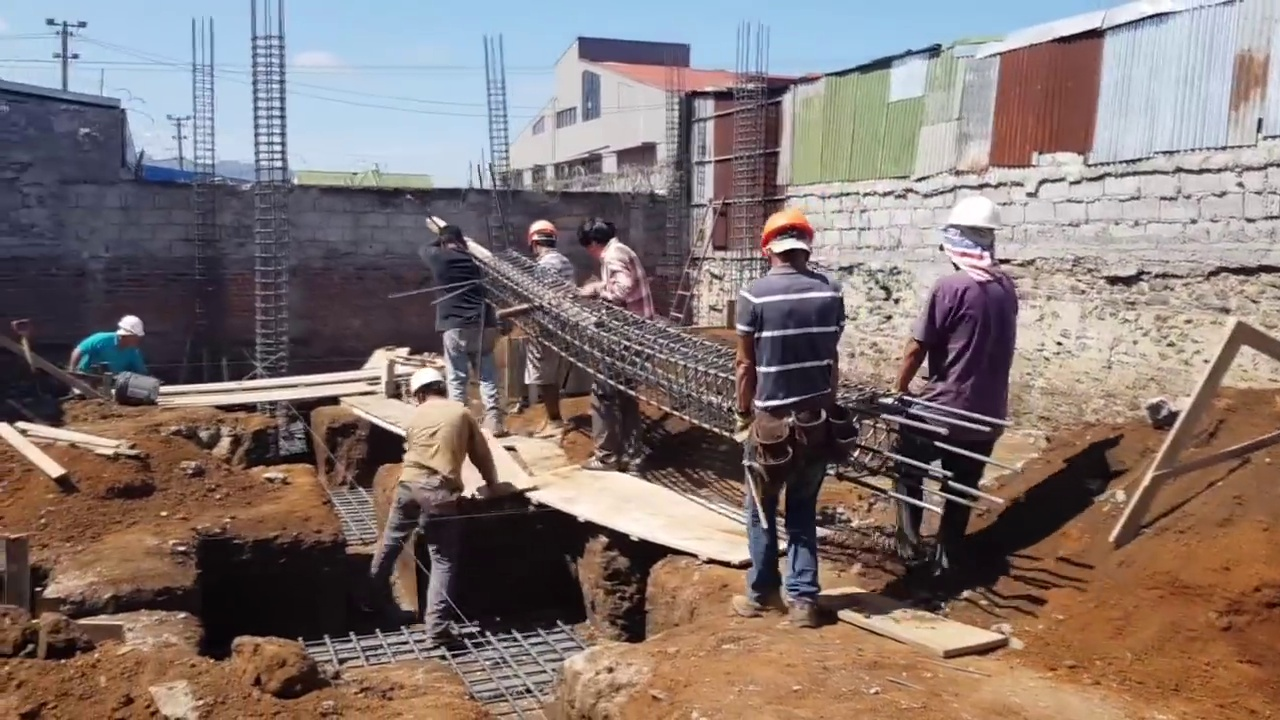helmet: (940, 196, 1005, 238), (762, 210, 821, 256), (408, 368, 445, 399), (530, 220, 558, 245), (117, 317, 144, 337)
helmet-off: (583, 215, 619, 262), (435, 225, 468, 255)
helmet-on: (940, 197, 1004, 276), (765, 208, 821, 278), (406, 370, 446, 410), (527, 219, 560, 258), (111, 317, 144, 349)
person: (881, 199, 1032, 600), (729, 208, 856, 629), (380, 368, 510, 647), (579, 215, 649, 474), (422, 226, 503, 416), (525, 210, 580, 433), (63, 316, 145, 385)
